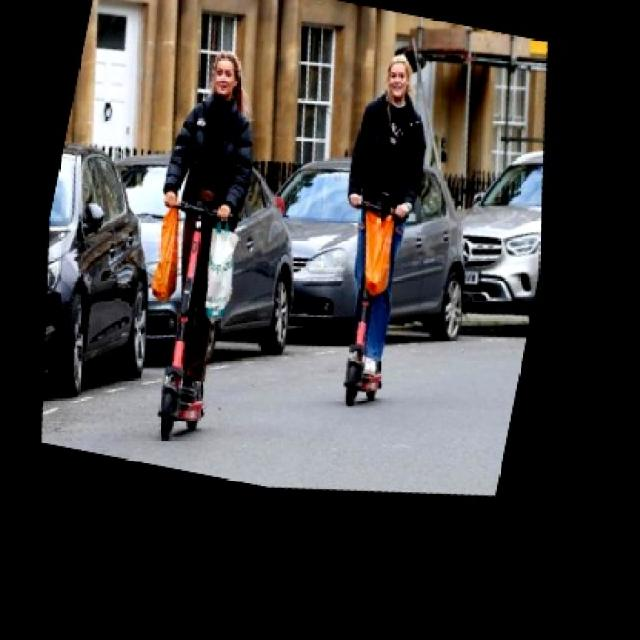bare_head: (198, 39, 246, 103), (377, 47, 421, 107)
human: (156, 39, 261, 381), (343, 39, 439, 361)
kickboard: (314, 350, 416, 421), (142, 383, 240, 443)
